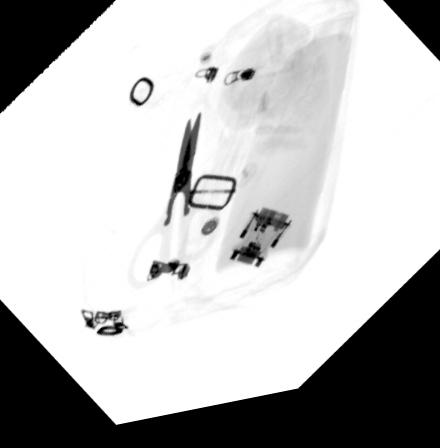Scissors: (127, 121, 219, 295)
